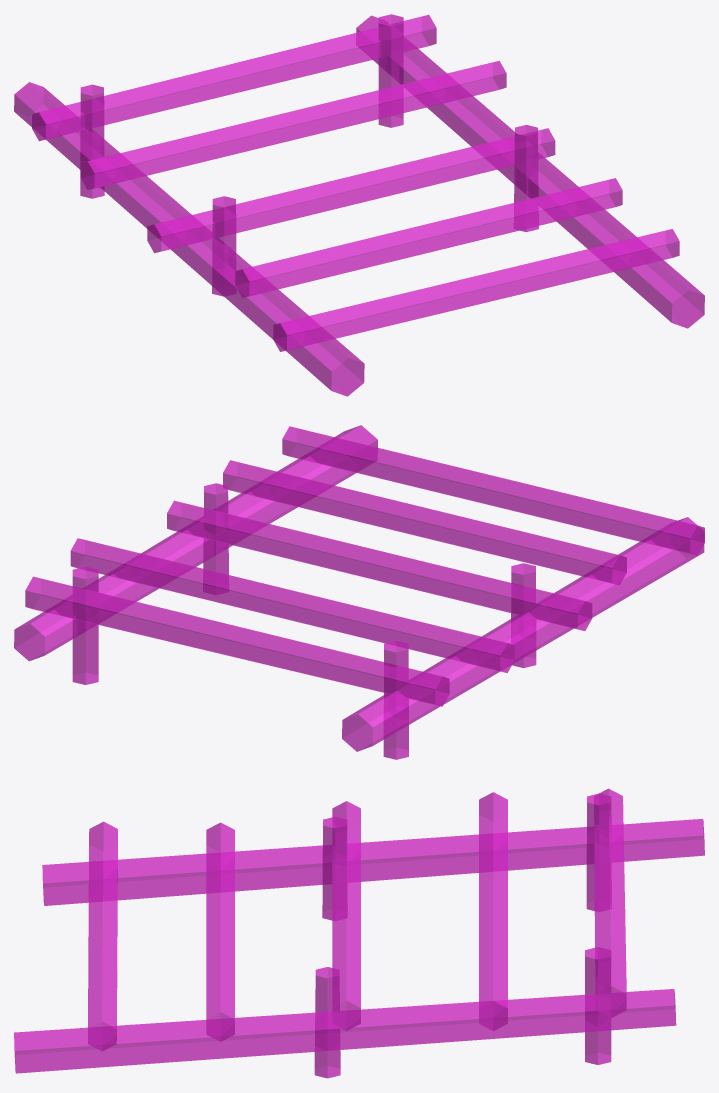
File: SM_Prop_Boat_Ramp_01_Collision.fbx
3 renders of one model, top to bottom at view 1: azimuth 30°, elevation 25°; view 2: azimuth 150°, elevation 25°; view 3: azimuth 270°, elevation 25°, orthographic. The views are drawn at different scales.
Parts seen in each view (by area): view 1: SM_Prop_Boat_Ramp_01_Collision; view 2: SM_Prop_Boat_Ramp_01_Collision; view 3: SM_Prop_Boat_Ramp_01_Collision.
Boxes of the visible parts, x1,y1,x2,y2 form: SM_Prop_Boat_Ramp_01_Collision: (14, 14, 704, 396); SM_Prop_Boat_Ramp_01_Collision: (14, 425, 704, 759); SM_Prop_Boat_Ramp_01_Collision: (14, 788, 704, 1078).
Size of the model in its own units: 414 by 109 by 572.
